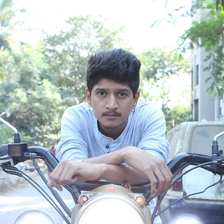no_mask: (89, 77, 134, 125)
